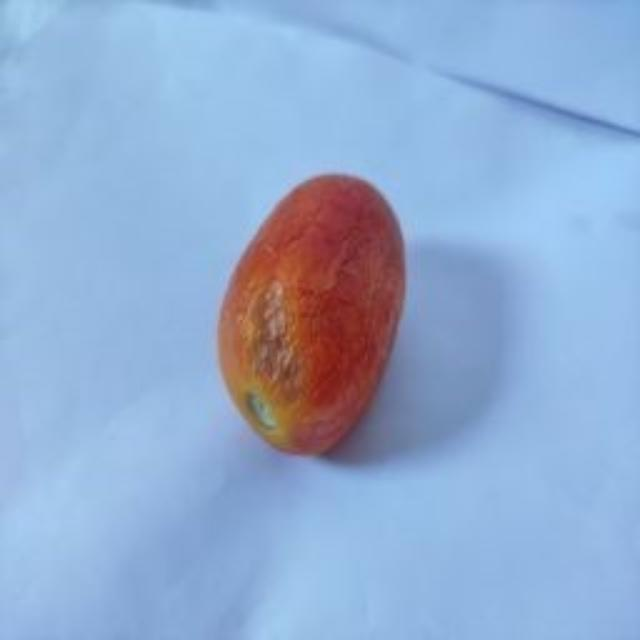defect: (211, 161, 413, 460)
